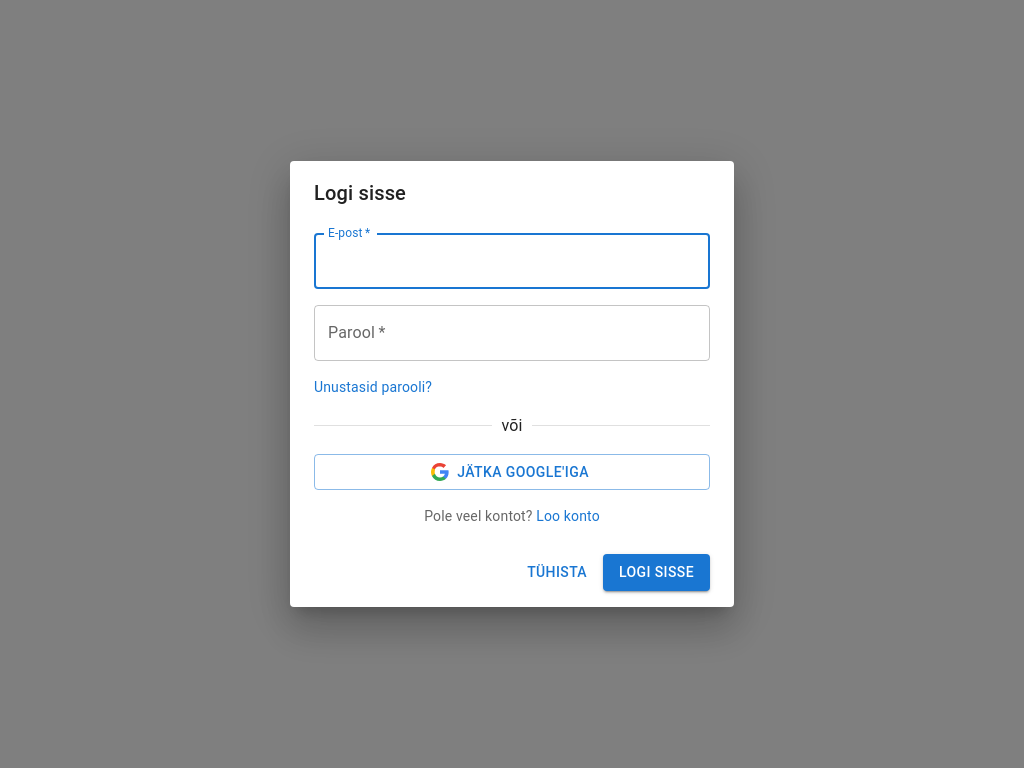
Scenario: LoginDialog › login view › switches to register view
What coordinates should you click on to do the following:
click the text "Loo konto"
I would click on:
 (568, 516)
Its box is left=536, top=508, right=600, bottom=524.
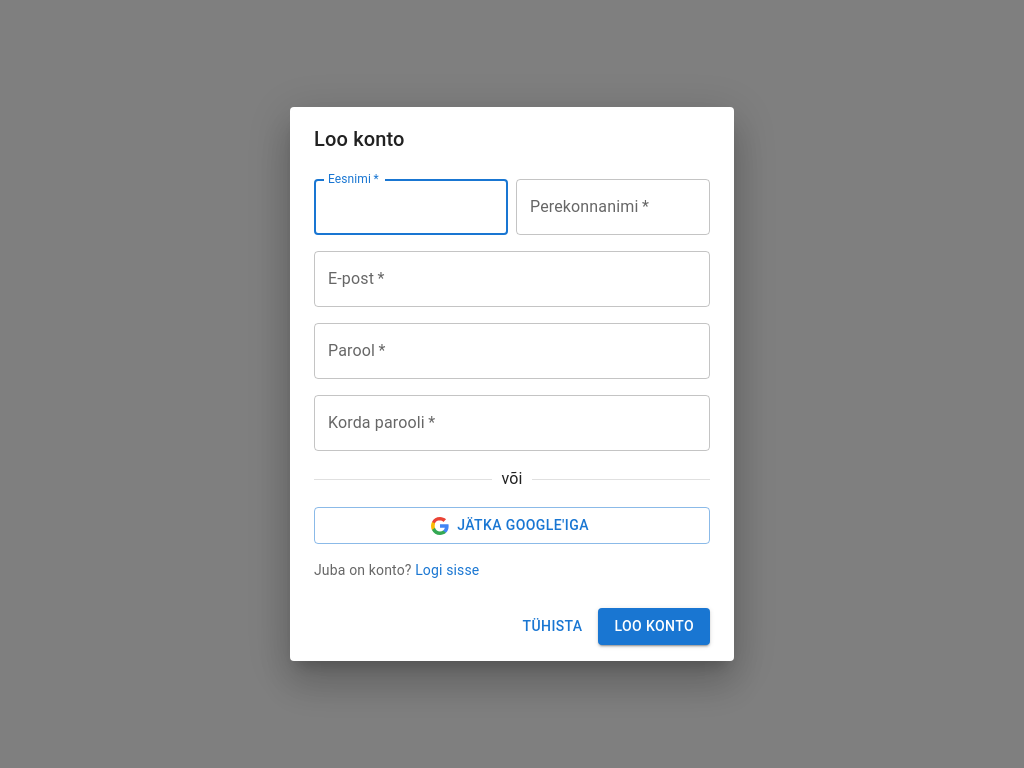
Check: the heading "Loo konto" is shown, box left=314, top=128, right=405, bottom=152
